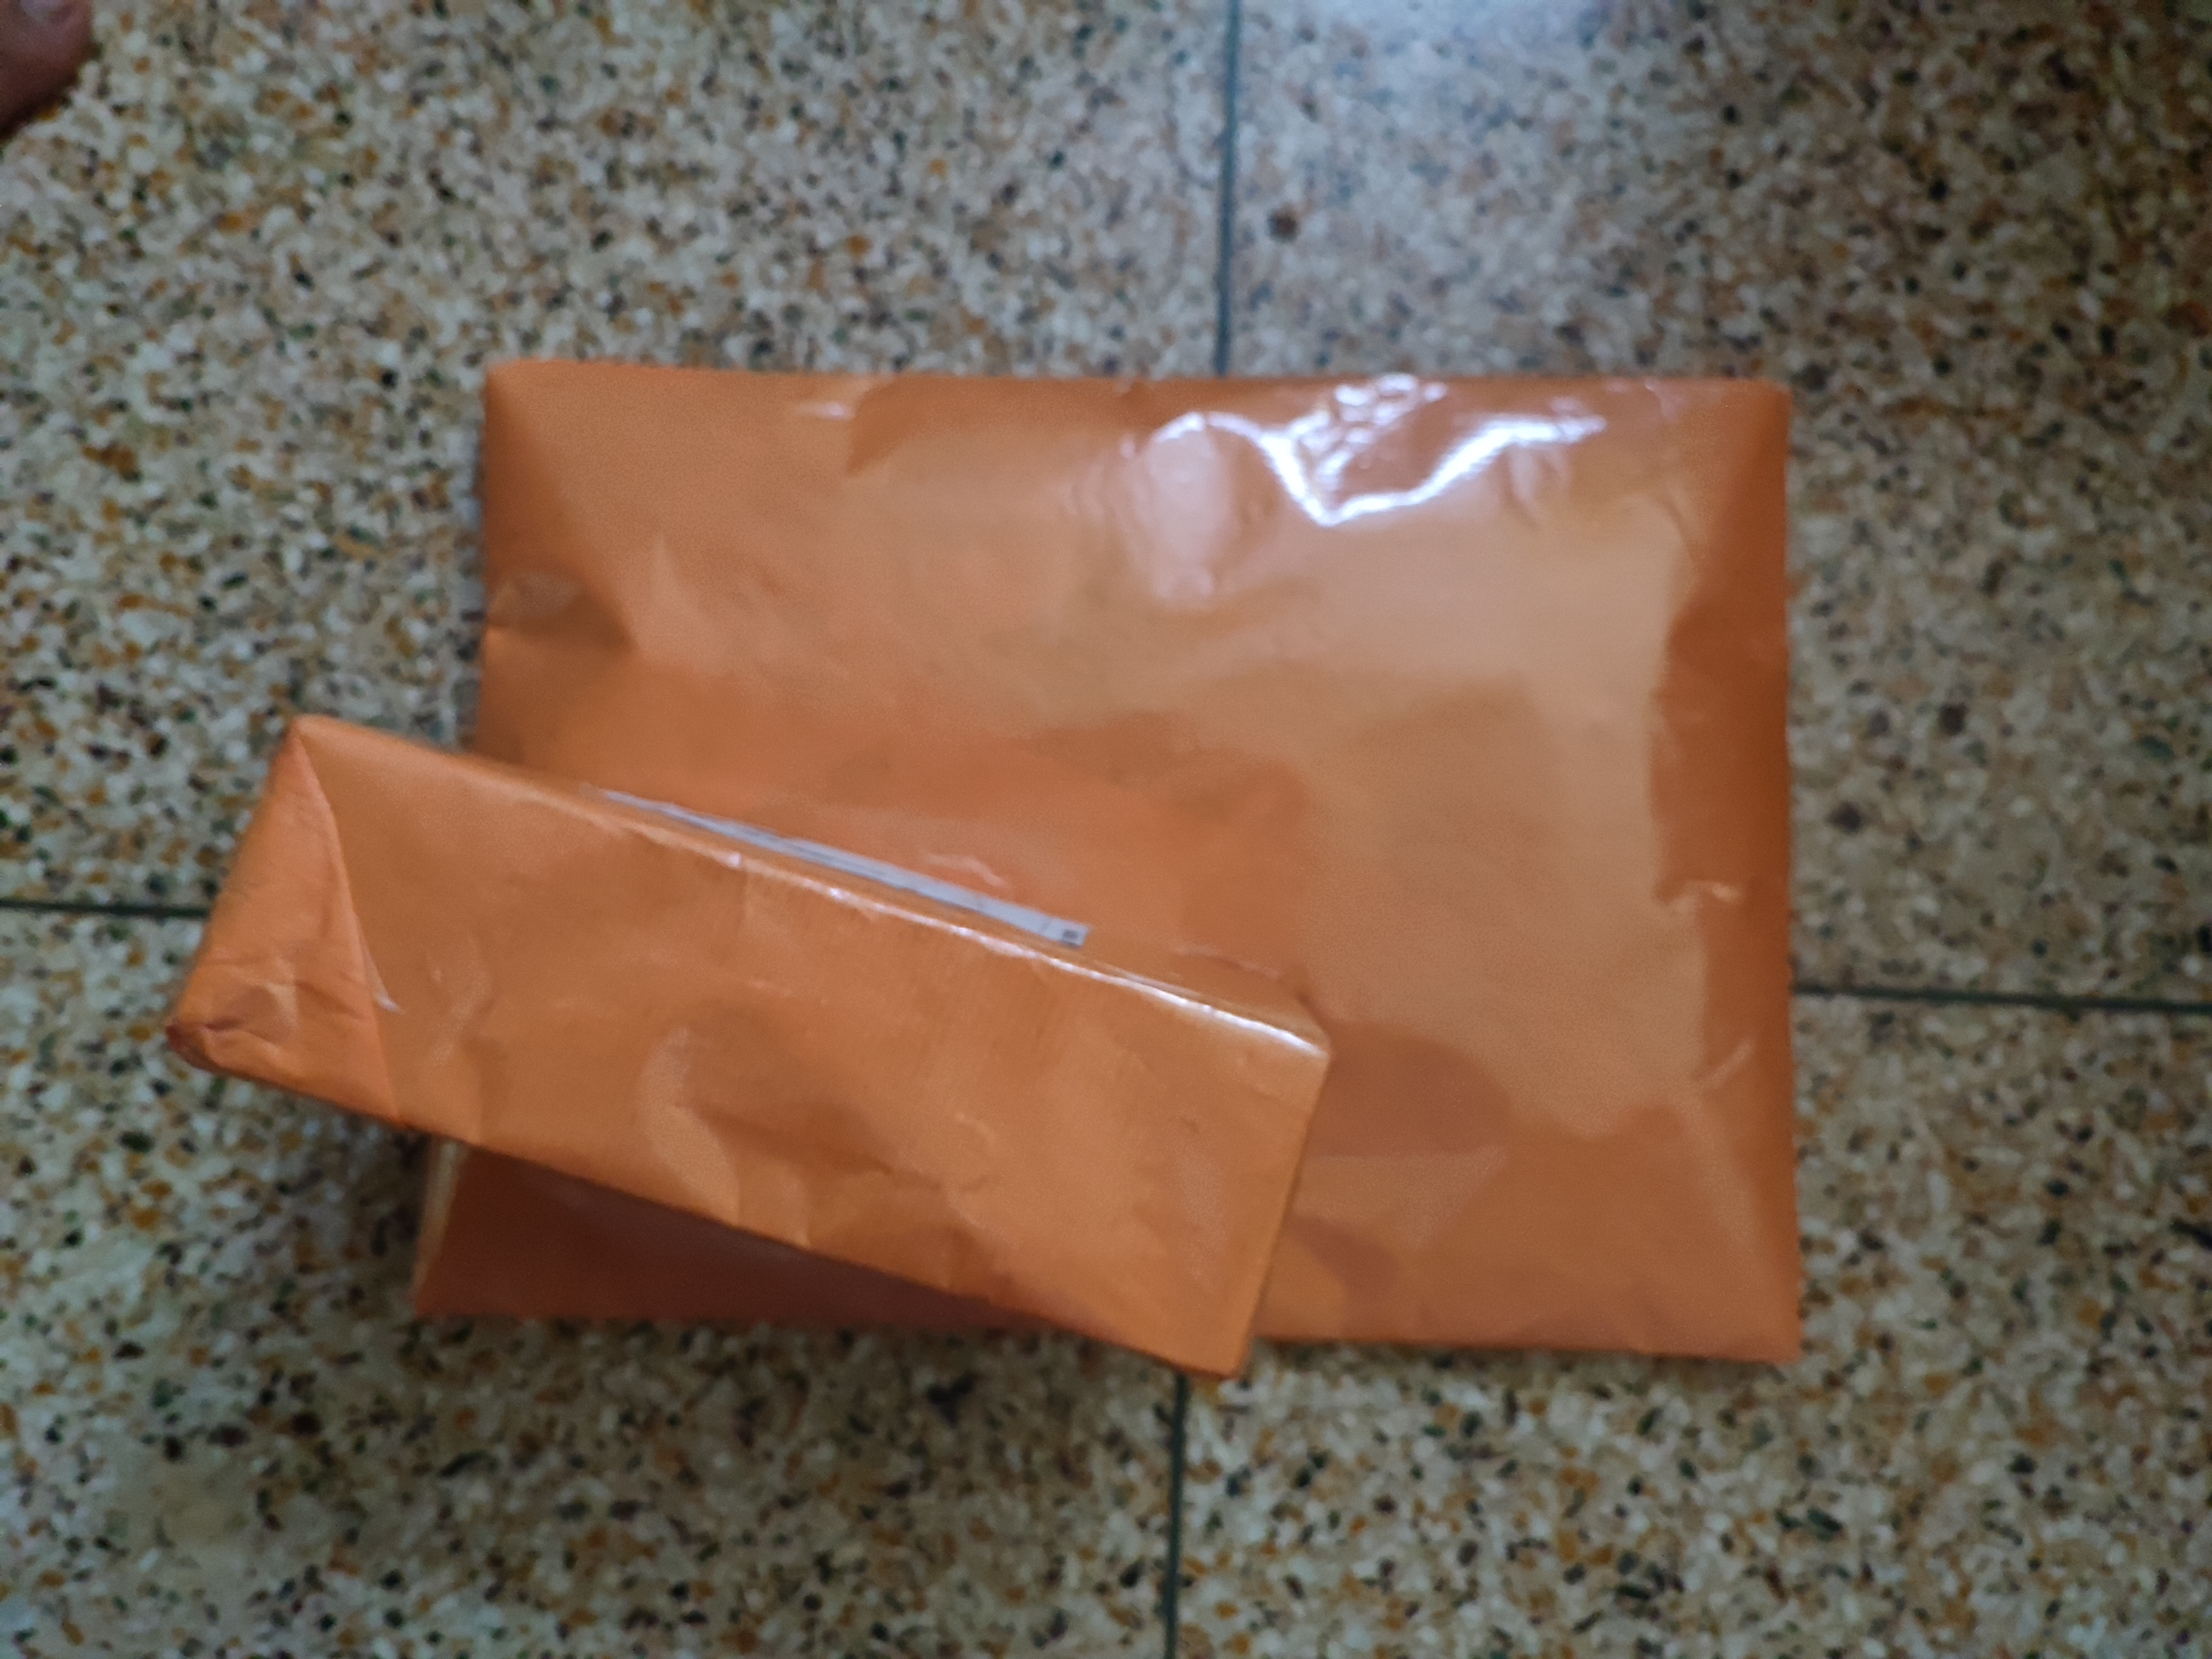Box: (340, 317, 1900, 1474), (216, 697, 1350, 1385)
